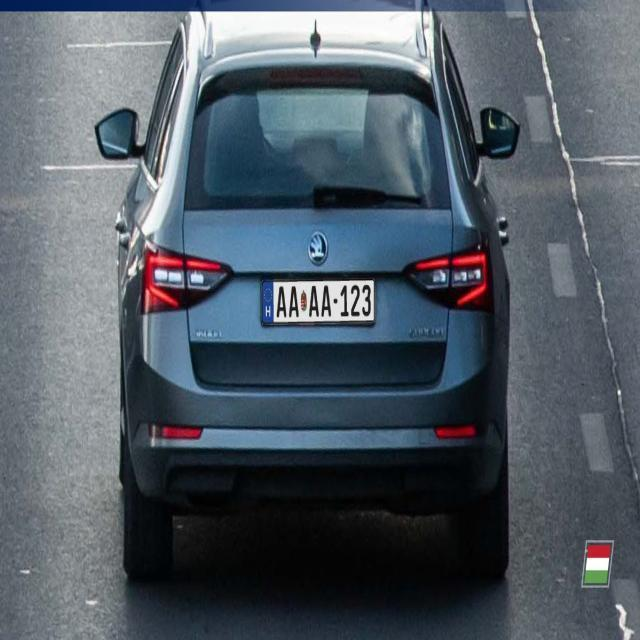licence: (259, 273, 378, 332)
